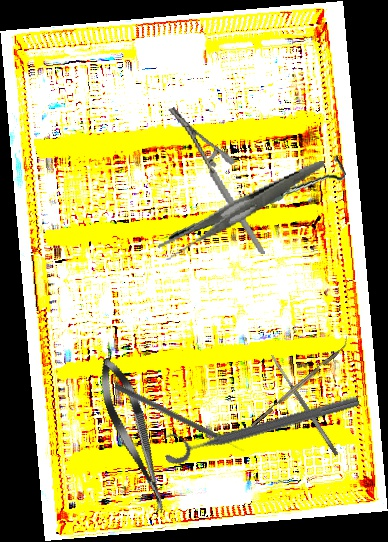Chopper: (246, 335, 354, 428)
Dressing Forceps: (148, 160, 337, 262)
Fixation Ring: (159, 379, 362, 468)
Hook Surgical: (168, 136, 348, 260)
Micro Scissor: (90, 352, 178, 519)
Needle Holder: (167, 94, 266, 268)
Pusher: (113, 382, 246, 456)
Spatula Surgical: (269, 353, 340, 457)
